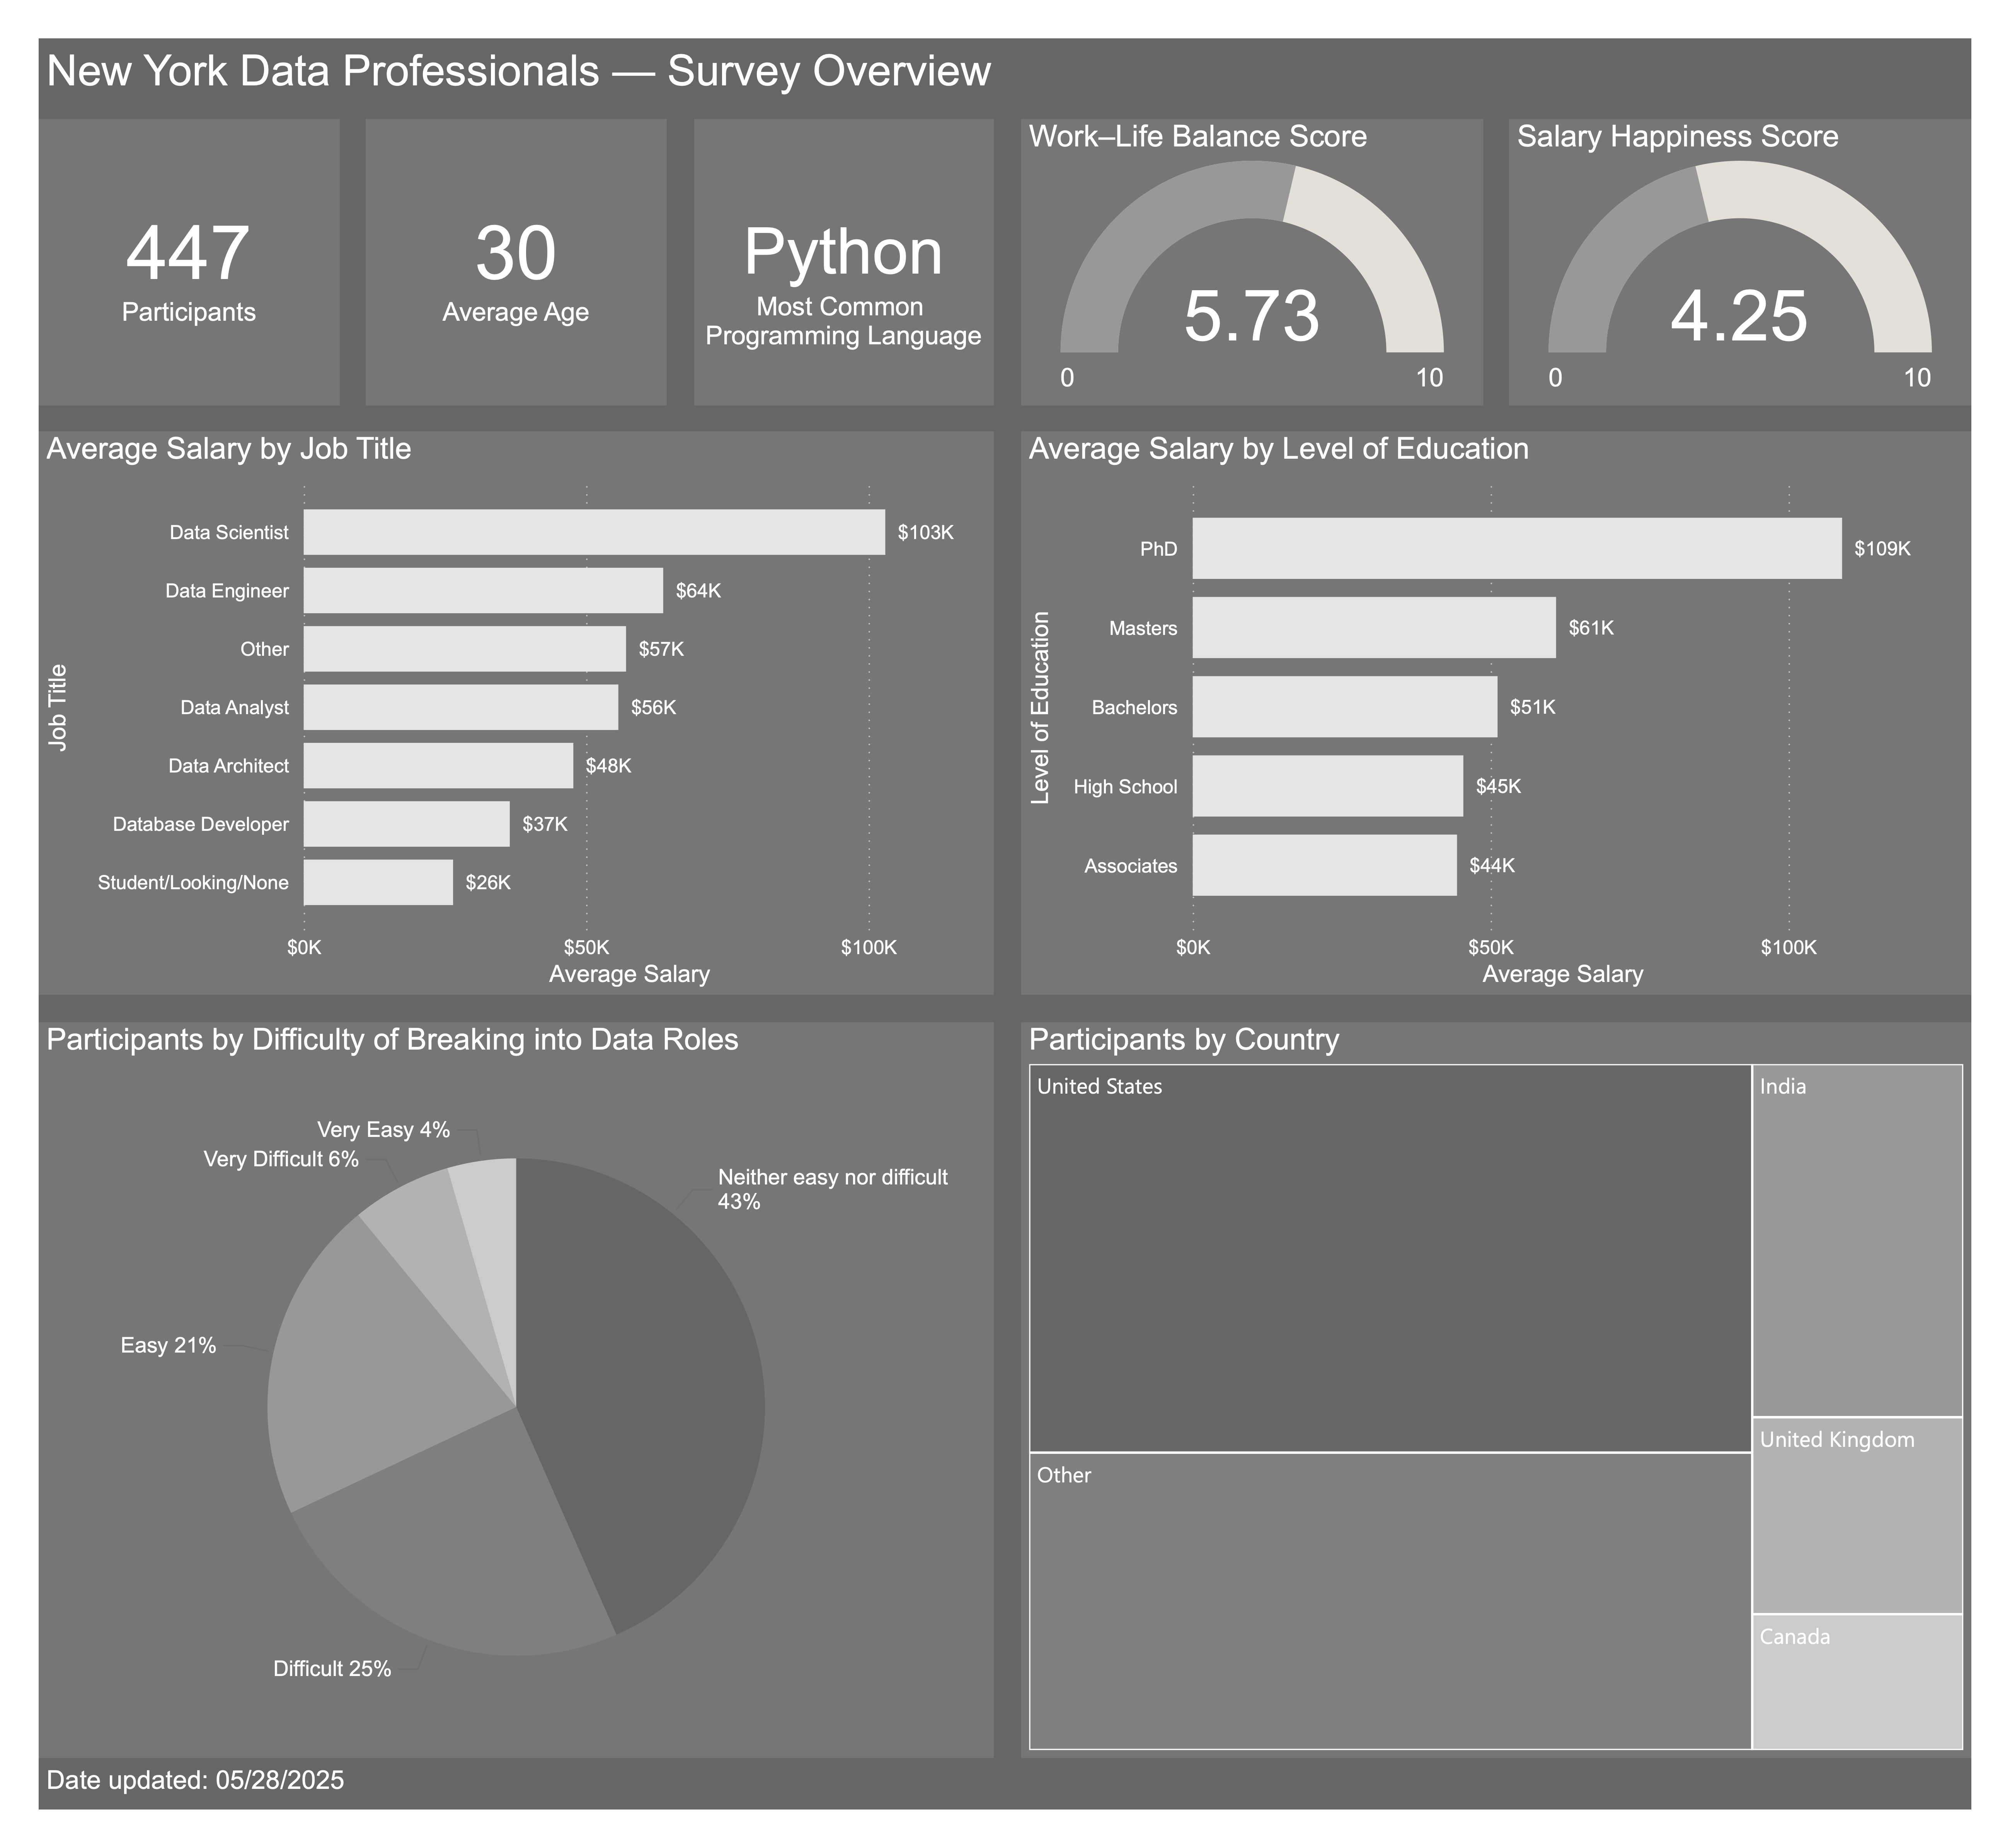

The dashboard page shown, as its layout file describes it:
{"tool":"powerbi","page":{"name":"Page 1","canvas":[1200,1100],"ordinal":0},"visuals":[{"type":"textbox","box":[0,0,1281,41],"z":0},{"type":"card","fields":{"Values":["CountNonNull(Data Professional Survey.Unique ID)"]},"box":[0,50,186.7,177.8],"z":1000},{"type":"card","fields":{"Values":["Avg(Data Professional Survey.Q10 - Current Age)"]},"box":[203.3,50.2,186.7,177.8],"z":2000},{"type":"barChart","title":"Average Salary by Job Title","fields":{"Category":["Data Professional Survey.Q1 - Which Title Best Fits your Current Role?","Data Professional Survey.Q6 - How Happy are you in your Current Position with the following? (Salary)"],"Y":["Avg(Data Professional Survey.Average Salary)"]},"box":[0,244.4,593.3,350],"z":3000},{"type":"treemap","fields":{"Values":["CountNonNull(Data Professional Survey.Q11 - Which Country do you live in?)"],"Group":["Data Professional Survey.Q11 - Which Country do you live in?"]},"box":[610,611.1,590,456.7],"z":4000},{"type":"gauge","title":"Work–Life Balance Score","fields":{"Y":["Avg(Data Professional Survey.Q6 - How Happy are you in your Current Position with the following? (Work/Life Balance))"],"MinValue":["Min(Data Professional Survey.Q6 - How Happy are you in your Current Position with the following? (Work/Life Balance))1"],"MaxValue":["Max(Data Professional Survey.Q6 - How Happy are you in your Current Position with the following? (Work/Life Balance))2"]},"box":[610,50,286.7,177.8],"z":5000},{"type":"gauge","title":"Salary Happiness Score","fields":{"Y":["Avg(Data Professional Survey.Q6 - How Happy are you in your Current Position with the following? (Salary))"],"MinValue":["Min(Data Professional Survey.Q6 - How Happy are you in your Current Position with the following? (Salary))"],"MaxValue":["Max(Data Professional Survey.Q6 - How Happy are you in your Current Position with the following? (Salary))"]},"box":[913.3,50,286.7,177.8],"z":6000},{"type":"pieChart","title":"Participants by Difficulty of Breaking into Data Roles","fields":{"Y":["CountNonNull(Data Professional Survey.Q7 - How difficult was it for you to break into Data?)"],"Category":["Data Professional Survey.Q7 - How difficult was it for you to break into Data?"]},"box":[0,611.1,593.3,456.7],"z":7000},{"type":"clusteredBarChart","fields":{"Y":["Avg(Data Professional Survey.Average Salary)"],"Category":["Data Professional Survey.Q12 - Highest Level of Education","Data Professional Survey.Q6 - How Happy are you in your Current Position with the following? (Salary)"]},"box":[610,244.4,590,350],"z":8000},{"type":"card","fields":{"Values":["Data Professional Survey.Most Common Programming Language"]},"box":[406.7,50,186.7,177.8],"z":9000},{"type":"textbox","box":[0,1067.8,1200,32.2],"z":10000}]}

Visuals, with their boxes in screenshot pixels (x1, y1, x2, y2), scaled from the page's 1200x1100 canvas onto the 2010x1848 screenshot:
textbox: 0 0 2010 69
card - CountNonNull(Data Professional Survey.Unique ID): 0 84 313 383
card - Avg(Data Professional Survey.Q10 - Current Age): 341 84 653 383
"Average Salary by Job Title" barChart: 0 410 994 999
treemap - CountNonNull(Data Professional Survey.Q11 - Which Country do you live in?) x Data Professional Survey.Q11 - Which Country do you live in?: 1022 1027 2010 1794
"Work–Life Balance Score" gauge: 1022 84 1502 383
"Salary Happiness Score" gauge: 1530 84 2010 383
"Participants by Difficulty of Breaking into Data Roles" pieChart: 0 1027 994 1794
clusteredBarChart - Avg(Data Professional Survey.Average Salary) x Data Professional Survey.Q12 - Highest Level of Education: 1022 410 2010 999
card - Data Professional Survey.Most Common Programming Language: 681 84 994 383
textbox: 0 1794 2010 1848
